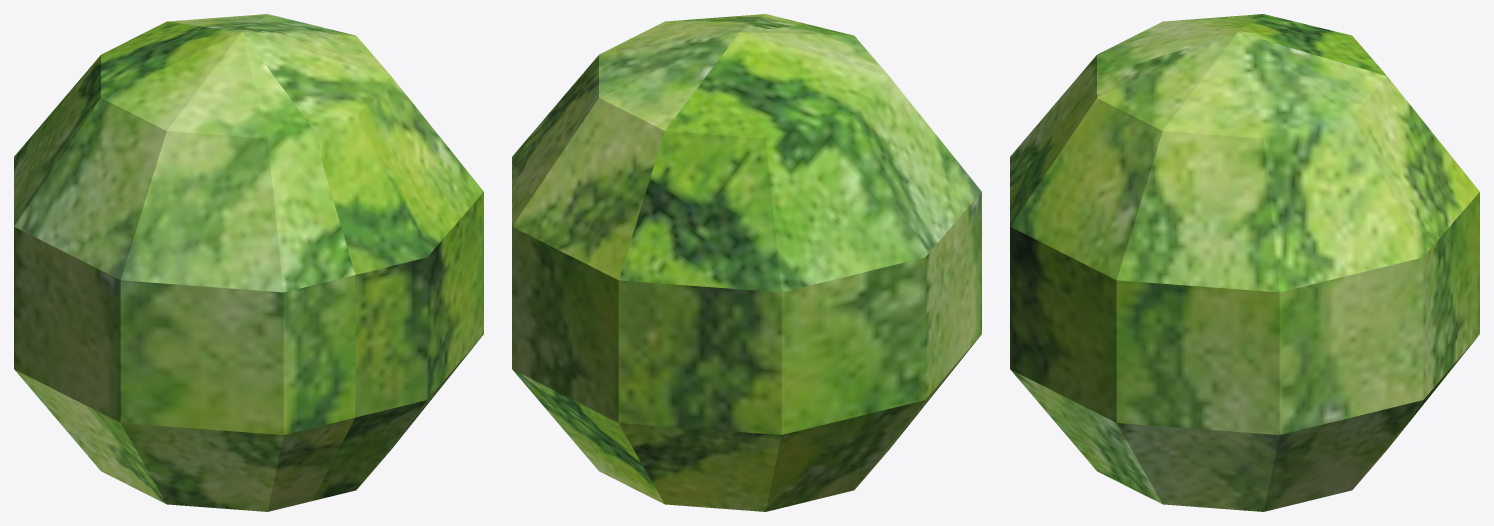
Rendered from watermelon.gltf.
The picture shows the model from 3 angles, left to right: view 1: azimuth 30°, elevation 25°; view 2: azimuth 150°, elevation 25°; view 3: azimuth 270°, elevation 25°; orthographic projection.
Parts seen in each view (by area): view 1: WatermelonRight, WatermelonLeft; view 2: WatermelonRight, WatermelonLeft; view 3: WatermelonLeft, WatermelonRight.
Boxes of the visible parts, x1,y1,x2,y2 form: WatermelonRight: (14, 21, 355, 511); WatermelonLeft: (167, 14, 483, 500); WatermelonRight: (618, 25, 981, 511); WatermelonLeft: (512, 14, 809, 503); WatermelonLeft: (1010, 32, 1479, 511); WatermelonRight: (1010, 14, 1386, 191).
Size of the model in its own units: 2.15 by 2.3 by 2.12.
Materials: 2 (2 with a texture image).
